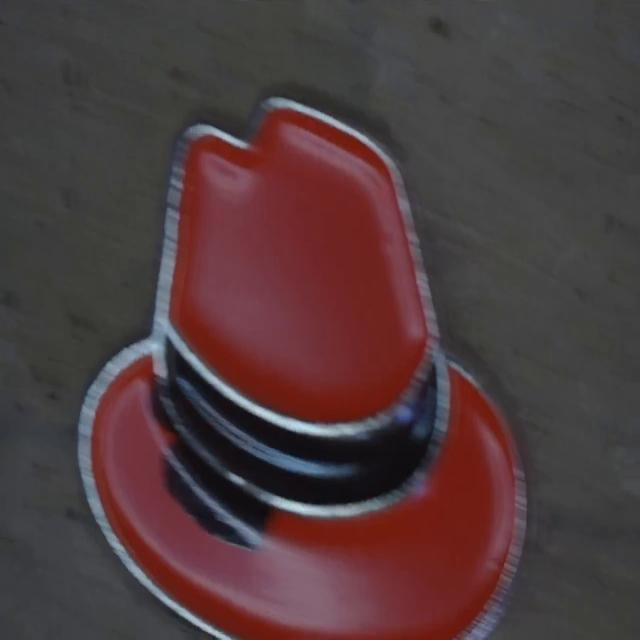Hatband: (159, 338, 444, 509)
Paint_Leak: (154, 382, 270, 548)
RedHatPin: (79, 100, 526, 638)
